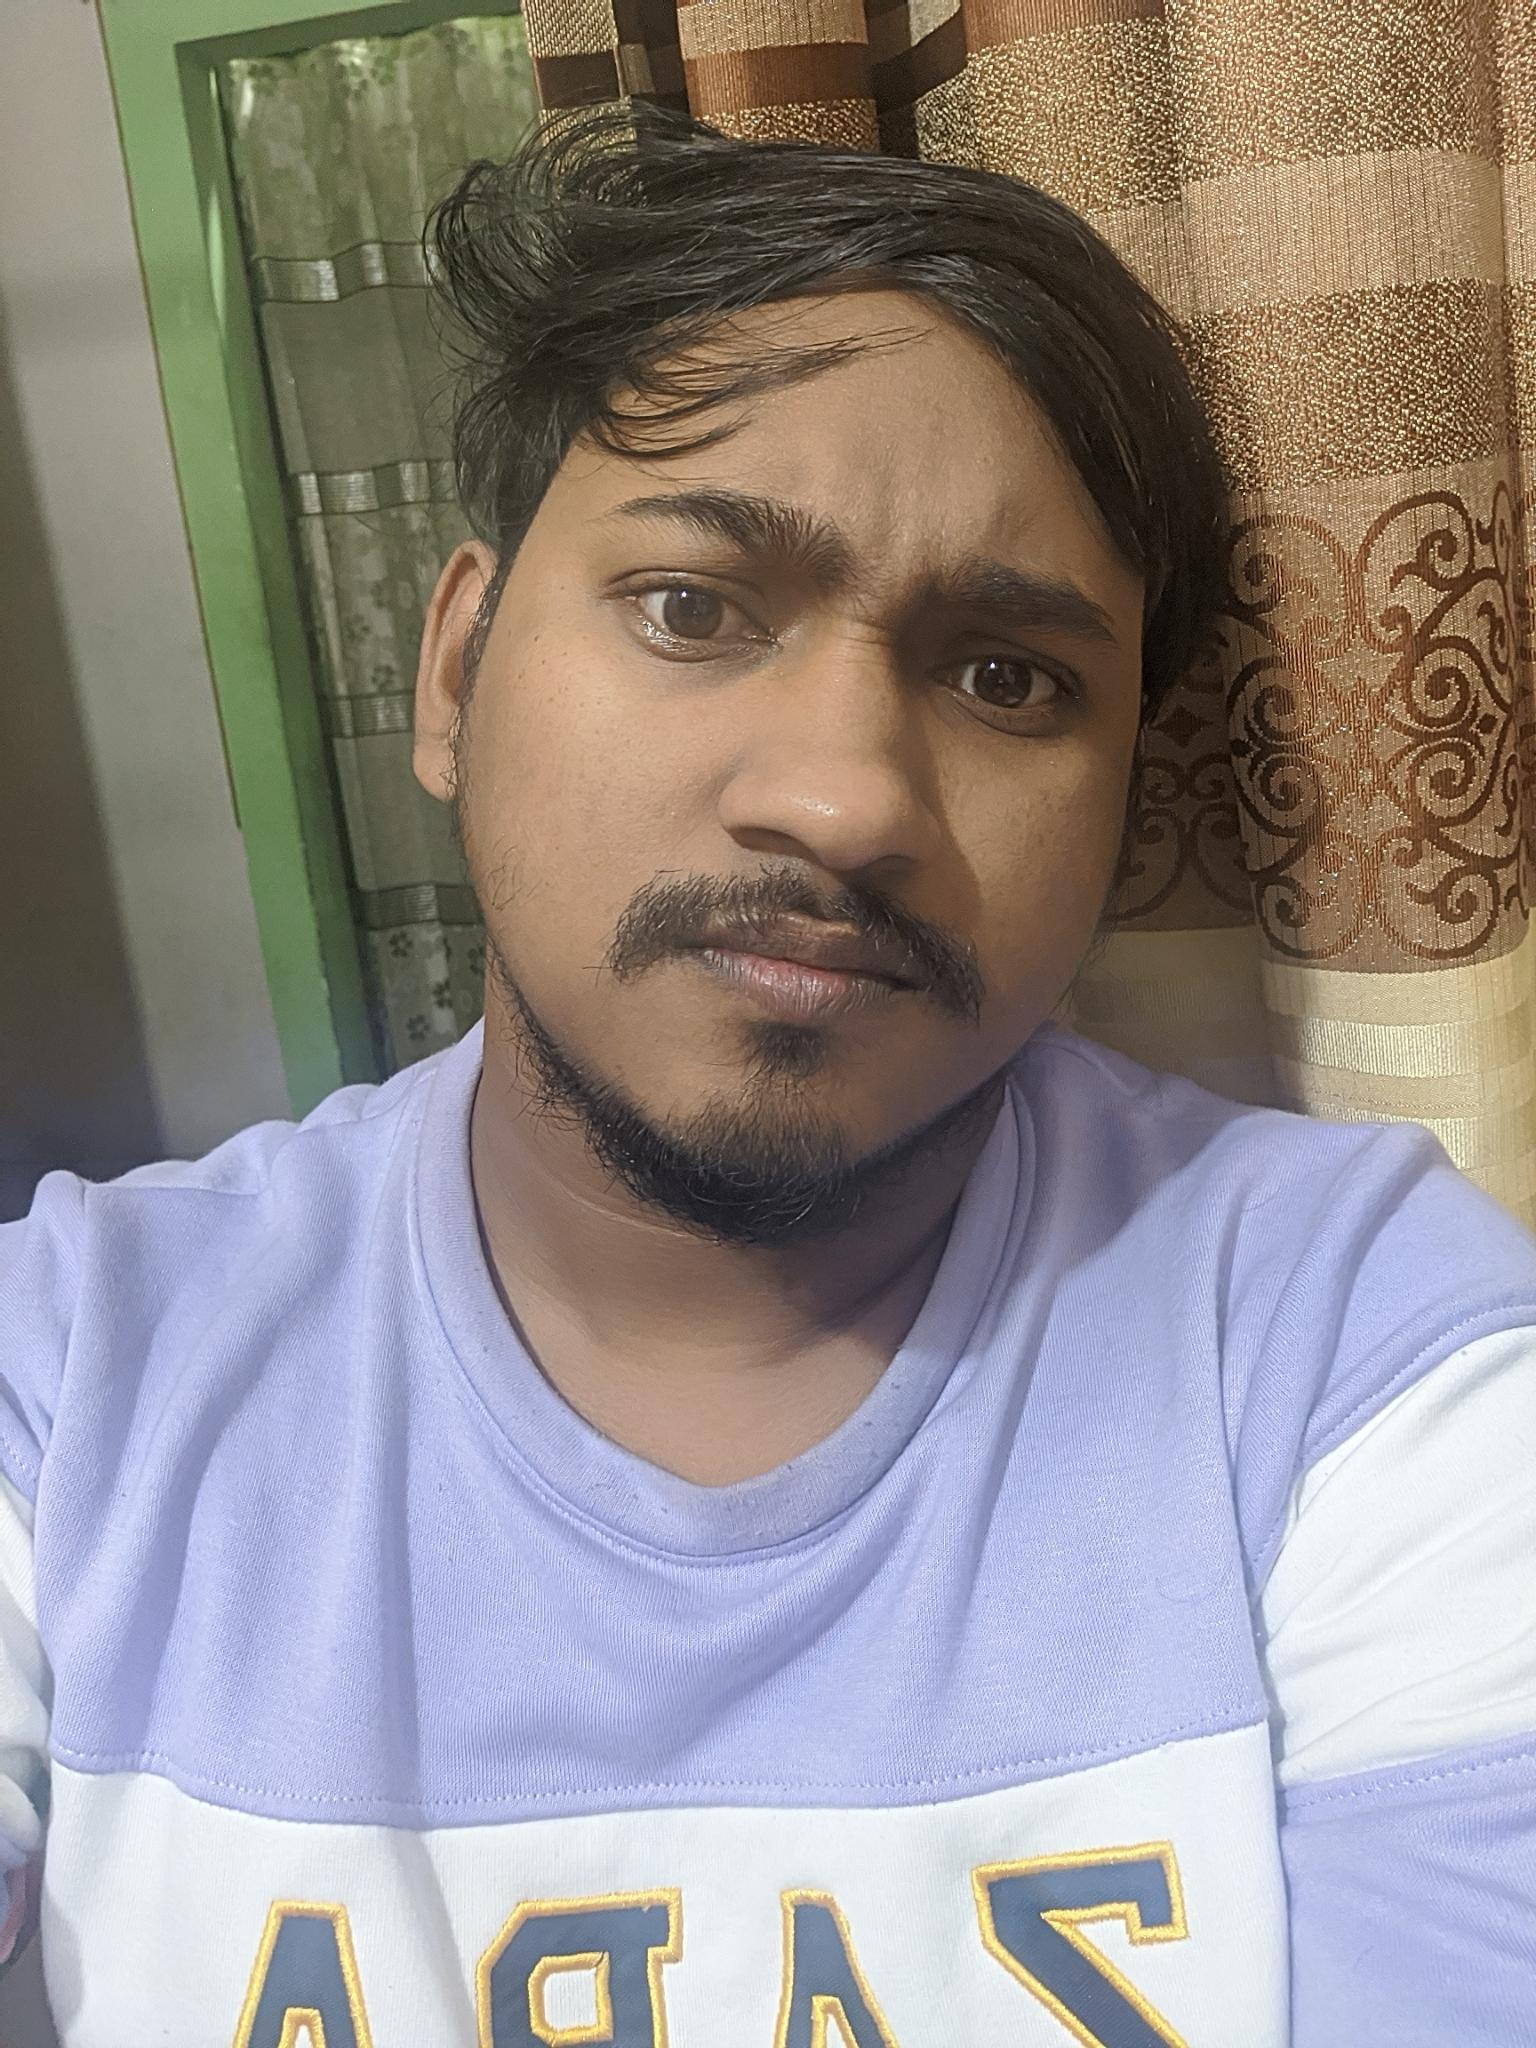Angry: (513, 402, 1147, 1219)
